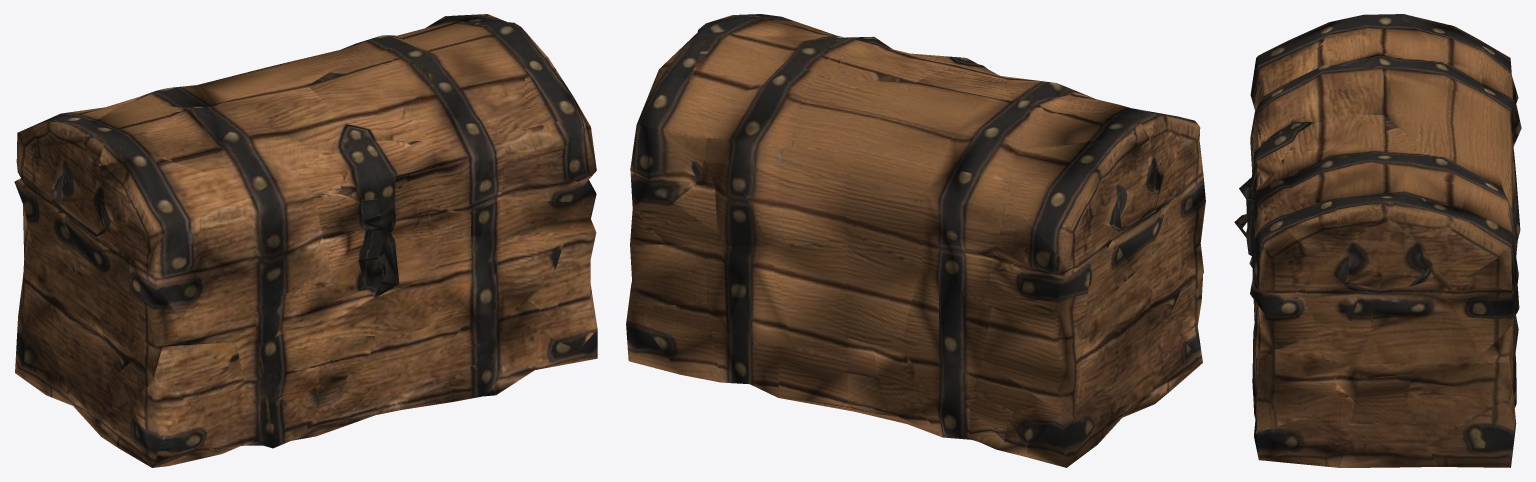
The model's file is chest_closed.glb.
3 views of the same model, side by side, from view 1: azimuth 30°, elevation 25°; view 2: azimuth 150°, elevation 25°; view 3: azimuth 270°, elevation 25° (orthographic). The views are drawn at different scales.
Parts seen in each view (by area): view 1: mesh_node; view 2: mesh_node; view 3: mesh_node.
Boxes of the visible parts, x1,y1,x2,y2 form: mesh_node: [14, 14, 597, 467]; mesh_node: [626, 14, 1205, 467]; mesh_node: [1234, 14, 1521, 467].
Bounding box in the file's own units: 1.86 × 1.14 × 1.11.
1 material, 1 textured.
